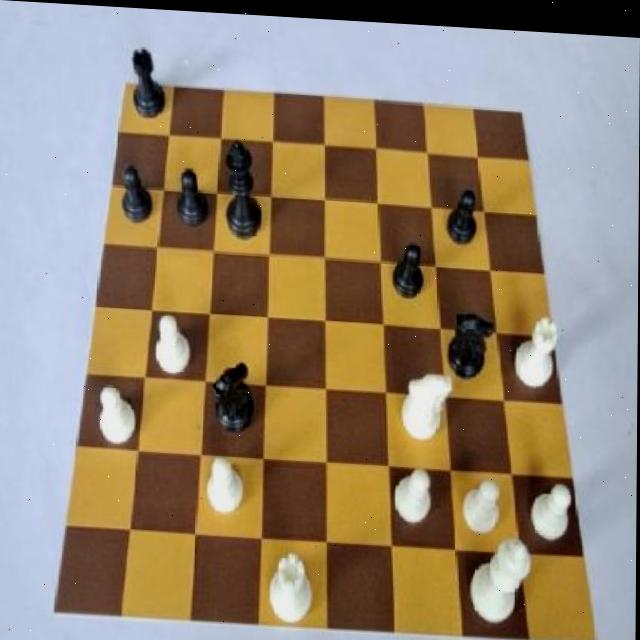black-bishop: (220, 133, 266, 248)
black-king: (444, 298, 495, 388), (208, 355, 259, 438)
black-knight: (441, 176, 482, 247), (172, 159, 213, 230), (388, 232, 428, 303), (117, 153, 155, 226)
black-queen: (125, 44, 172, 123)
white-bishop: (466, 530, 536, 630)
white-king: (394, 360, 458, 448)
white-knight: (144, 306, 198, 386), (93, 366, 141, 456), (528, 471, 574, 546), (202, 449, 248, 524), (389, 461, 434, 536), (459, 466, 505, 537)
white-queen: (265, 531, 317, 623), (512, 307, 563, 397)
